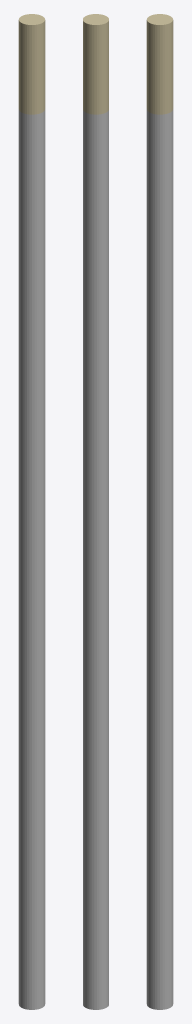
The picture shows the model from 3 angles, left to right: view 1: azimuth 90°, elevation 25°; view 2: azimuth 150°, elevation 25°; view 3: azimuth 270°, elevation 25°; orthographic projection.
Visible parts, largest first — view 1: Long_Electrode_Body, Long_Electrode_Tip; view 2: Long_Electrode_Body, Long_Electrode_Tip; view 3: Long_Electrode_Body, Long_Electrode_Tip.
Part boxes in pixels (x1=…): Long_Electrode_Body: x1=18, y1=109, x2=45, y2=1009; Long_Electrode_Tip: x1=18, y1=14, x2=45, y2=114; Long_Electrode_Body: x1=83, y1=110, x2=108, y2=1009; Long_Electrode_Tip: x1=83, y1=14, x2=108, y2=114; Long_Electrode_Body: x1=146, y1=109, x2=173, y2=1009; Long_Electrode_Tip: x1=146, y1=14, x2=173, y2=114.
Bounding box in the file's own units: 0.4 × 16.5 × 0.4.
